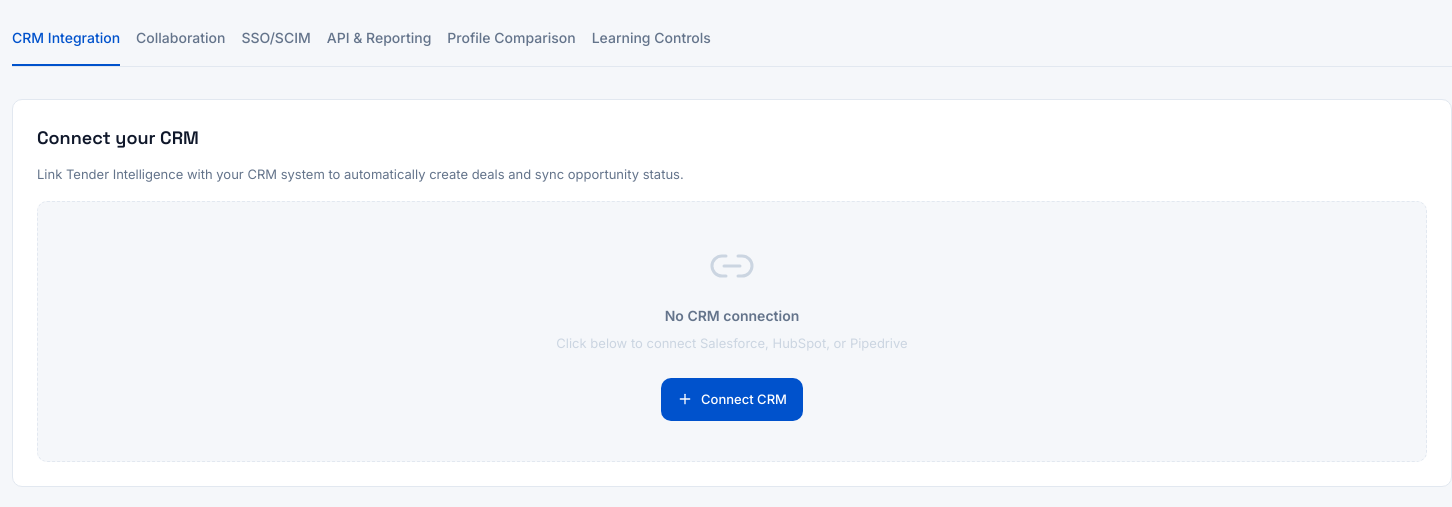
Scenario: RoadmapFeatures › switches to Profile Comparison tab content on click
Click the tab "Profile Comparison". click: (511, 39)
box: [447, 12, 576, 66]
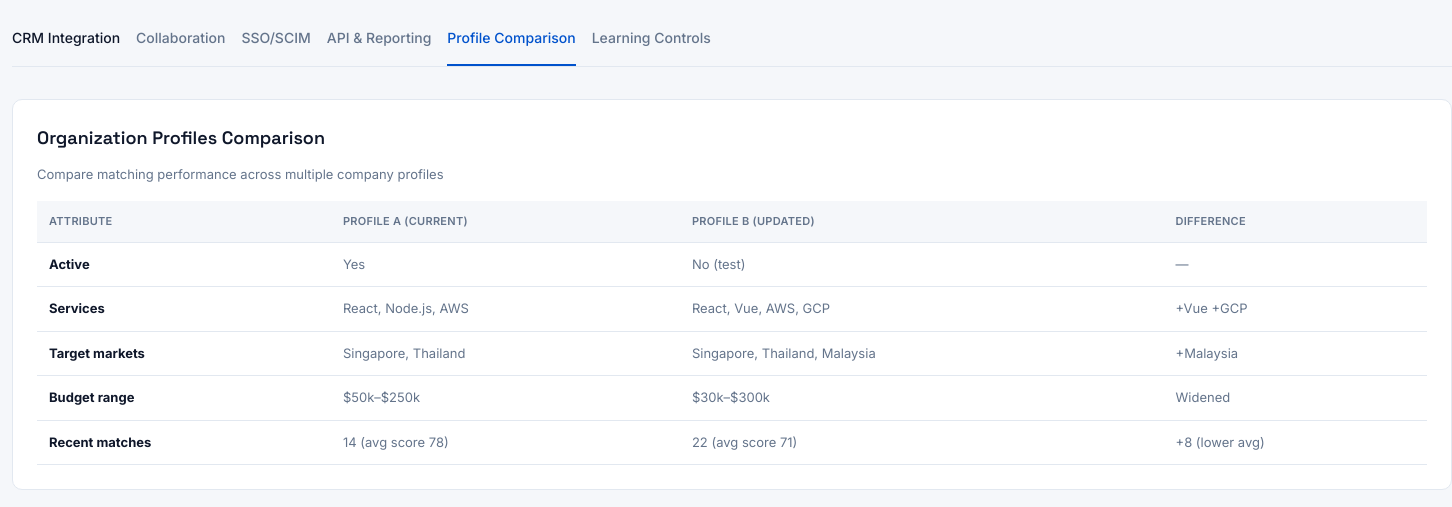
Check: the heading "Organization Profiles Comparison" is shown, box [37, 126, 325, 149]
